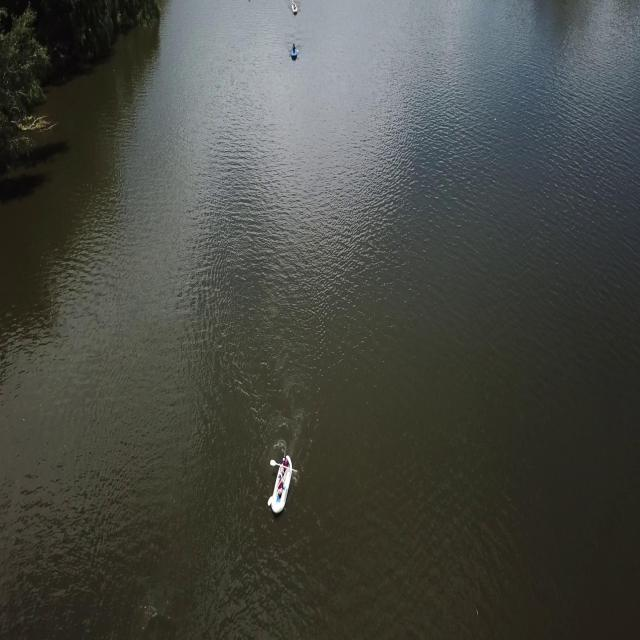kayak: (272, 453, 294, 516), (290, 42, 300, 63), (290, 0, 300, 18)
